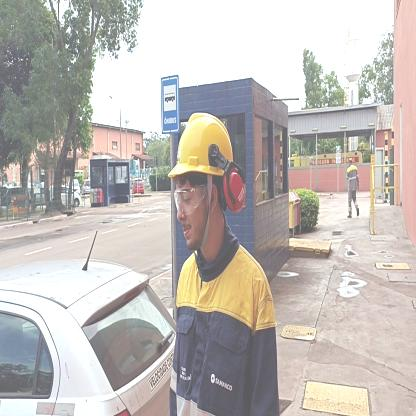C_eletrica: (174, 250, 271, 416)
Capacete: (166, 103, 233, 183)
